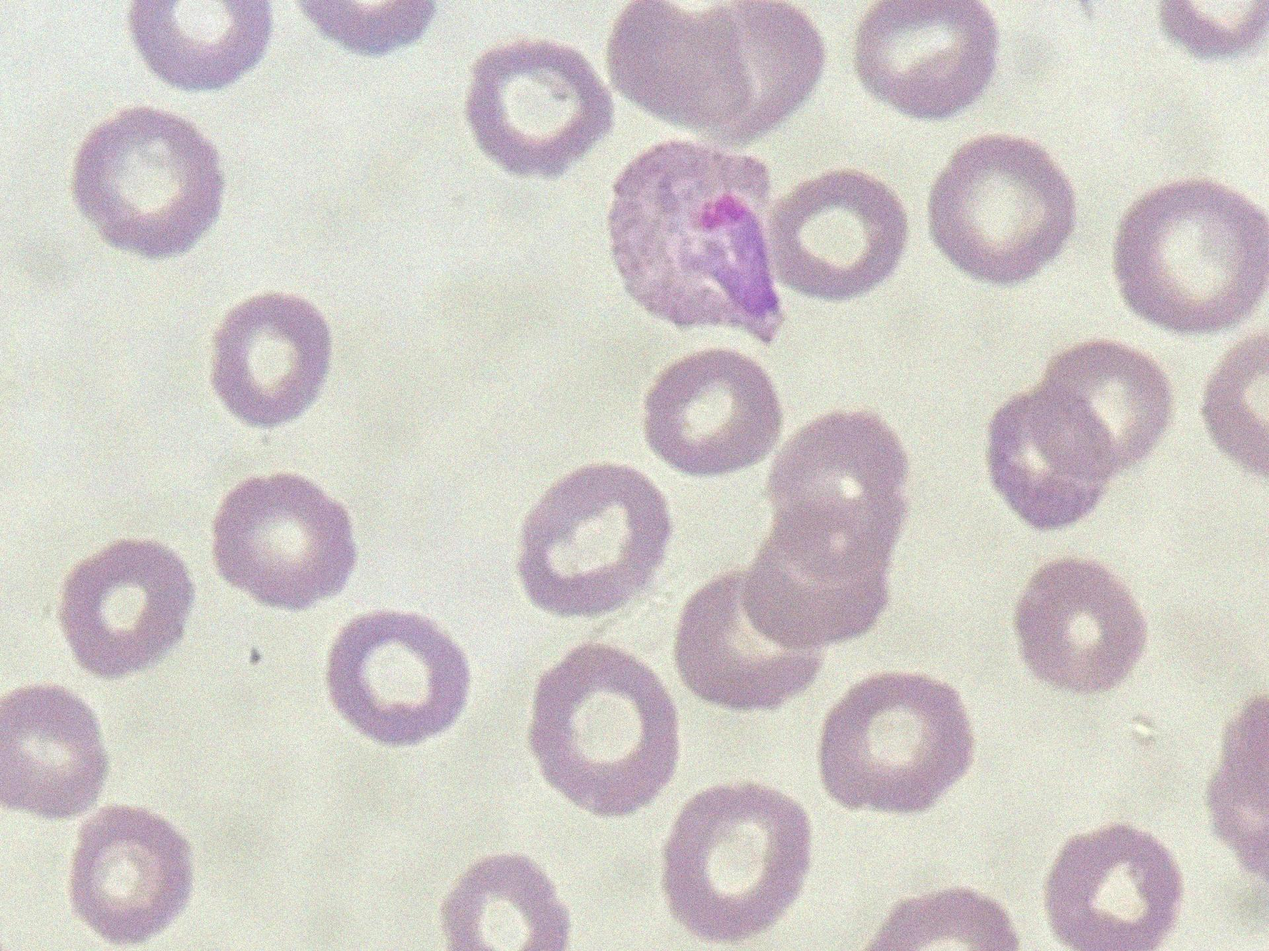Infected: (478, 603, 660, 808)
Uninfected: (590, 139, 740, 304), (596, 331, 750, 488), (0, 615, 155, 769), (456, 10, 604, 167), (291, 133, 448, 279), (443, 805, 600, 951), (1044, 689, 1196, 839), (912, 336, 1060, 481), (193, 673, 344, 812), (656, 772, 800, 913), (451, 238, 594, 377), (509, 825, 664, 951), (96, 473, 239, 609), (800, 207, 946, 335), (1074, 273, 1208, 411), (122, 253, 252, 393), (84, 0, 226, 126), (157, 418, 280, 562), (362, 655, 504, 779), (271, 830, 412, 951), (487, 476, 624, 598), (360, 423, 498, 543), (380, 304, 529, 414), (1076, 5, 1191, 142), (939, 524, 1056, 658), (1162, 133, 1269, 261), (995, 858, 1141, 951), (701, 0, 833, 93)
